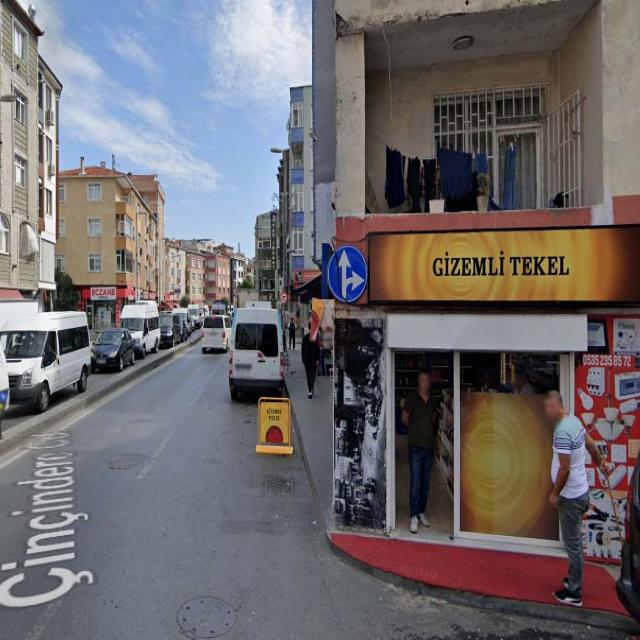ilerisag: (327, 245, 367, 303)
